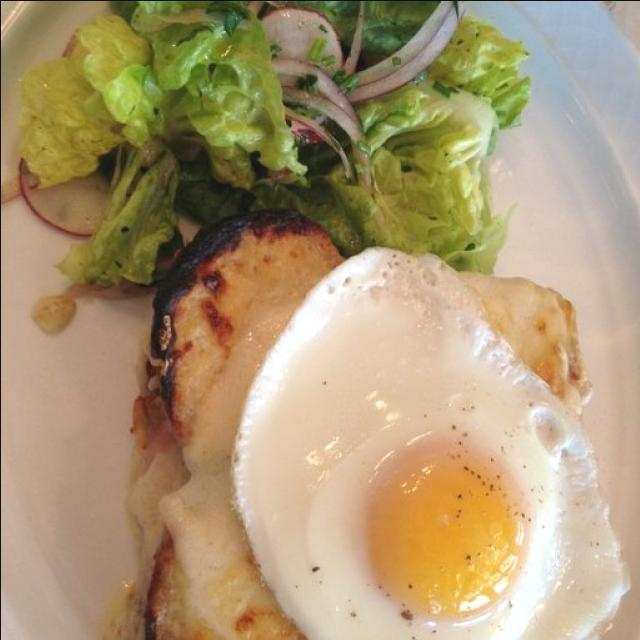telur ceplok: (228, 248, 629, 640)
